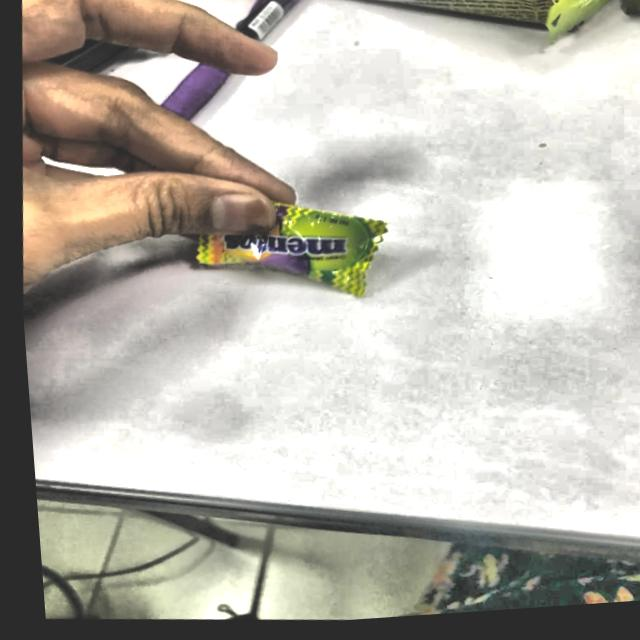Plastic: (178, 190, 398, 318)
